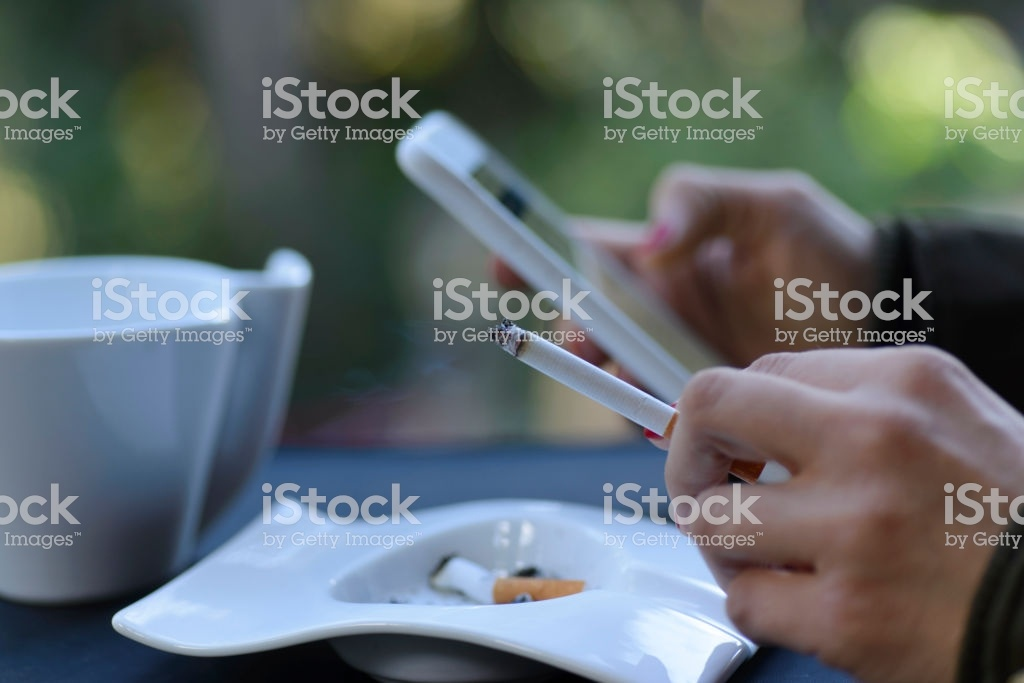sigaretta: (496, 321, 754, 466)
